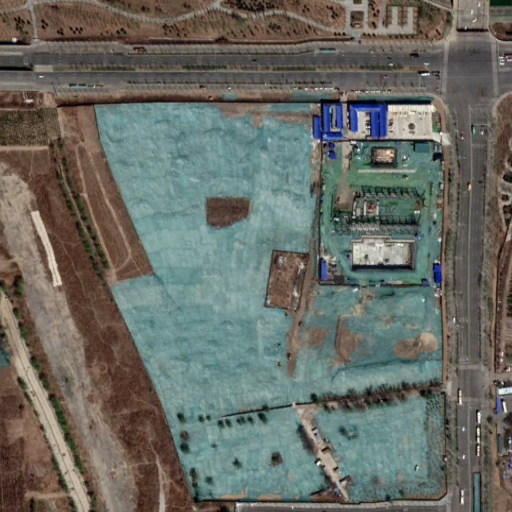cw: (92, 101, 445, 500)
